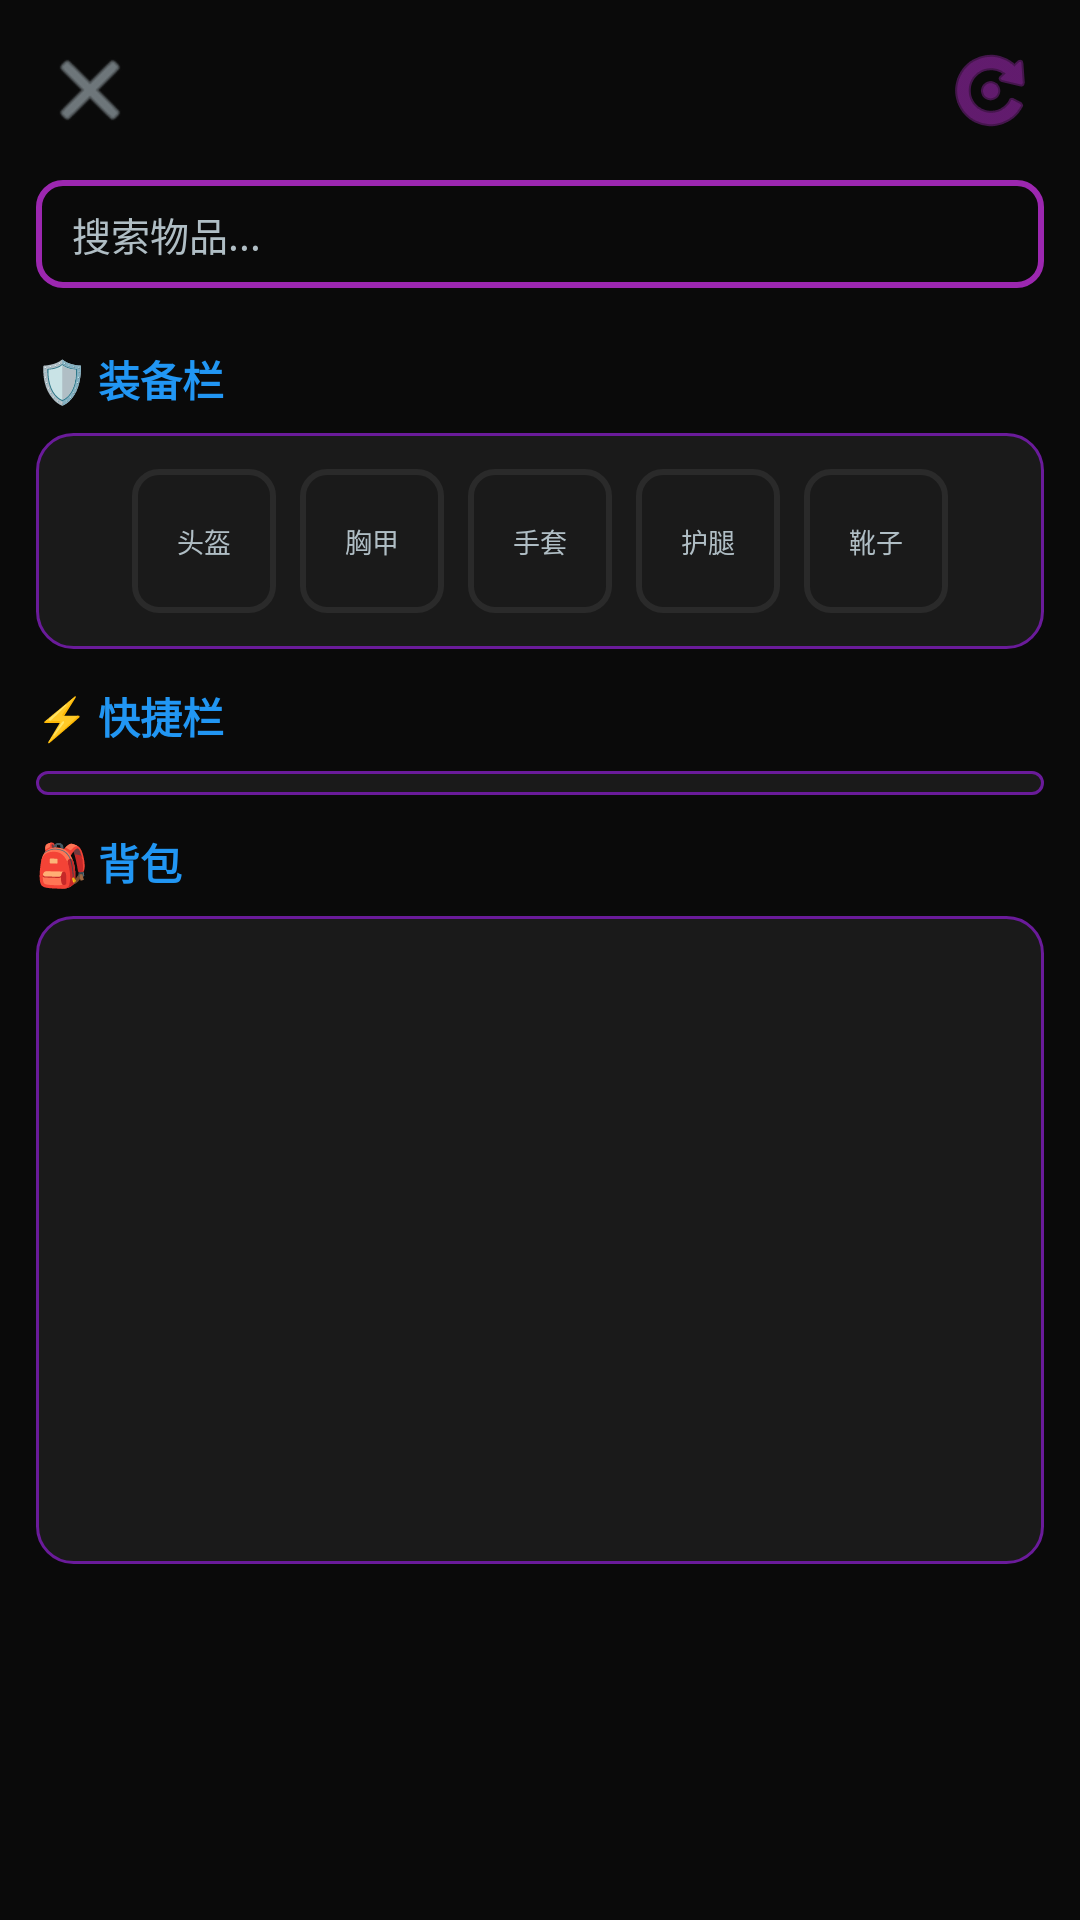

Icons on this 1080 × 1920 Android screen, each with the point to tap as (x=x, y=y):
刷新: (x=990, y=90)
